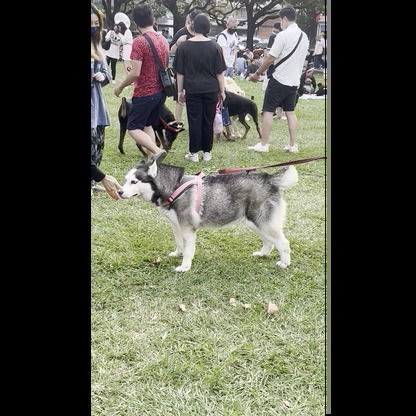husky: (117, 148, 302, 278)
